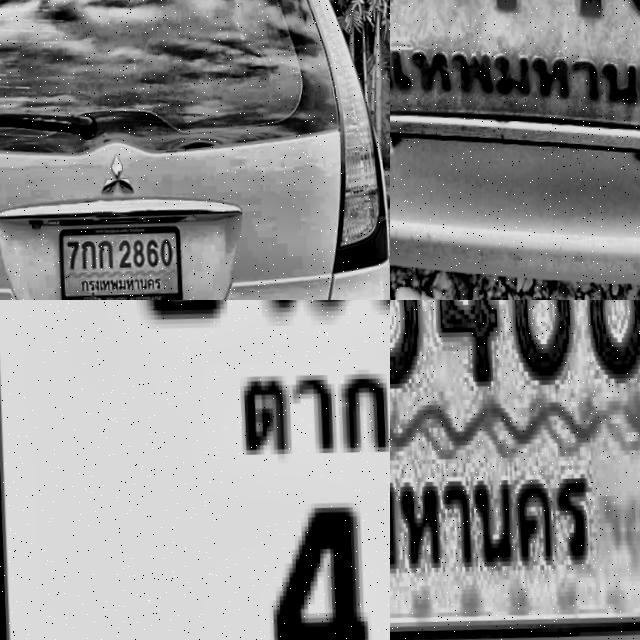license-plate: (0, 300, 390, 640), (390, 300, 640, 640), (390, 0, 640, 210), (61, 218, 185, 300)
